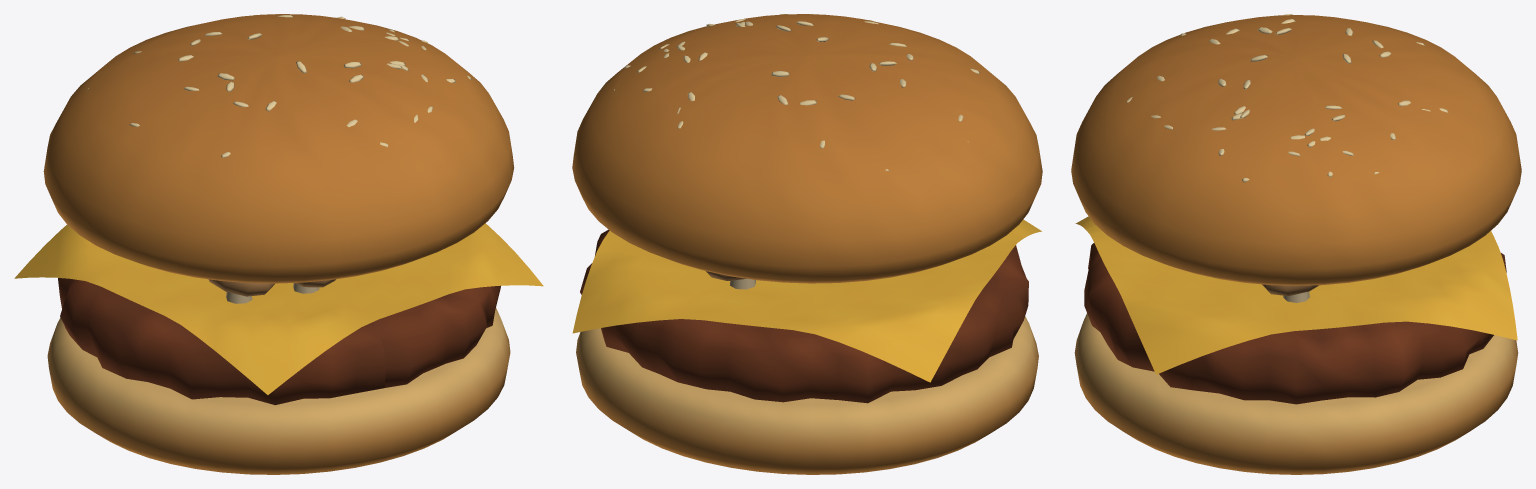
The model's file is xcogumelo.glb.
3 views of the same model, side by side, from view 1: azimuth 30°, elevation 25°; view 2: azimuth 150°, elevation 25°; view 3: azimuth 270°, elevation 25° (orthographic).
Visible parts, largest first — view 1: xcogumelo; view 2: xcogumelo; view 3: xcogumelo.
Part boxes in pixels (left/top/right/bottom): xcogumelo: left=14, top=14, right=543, bottom=474; xcogumelo: left=572, top=14, right=1042, bottom=474; xcogumelo: left=1071, top=14, right=1521, bottom=474.
Bounding box in the file's own units: 0.126 × 0.1007 × 0.121.
